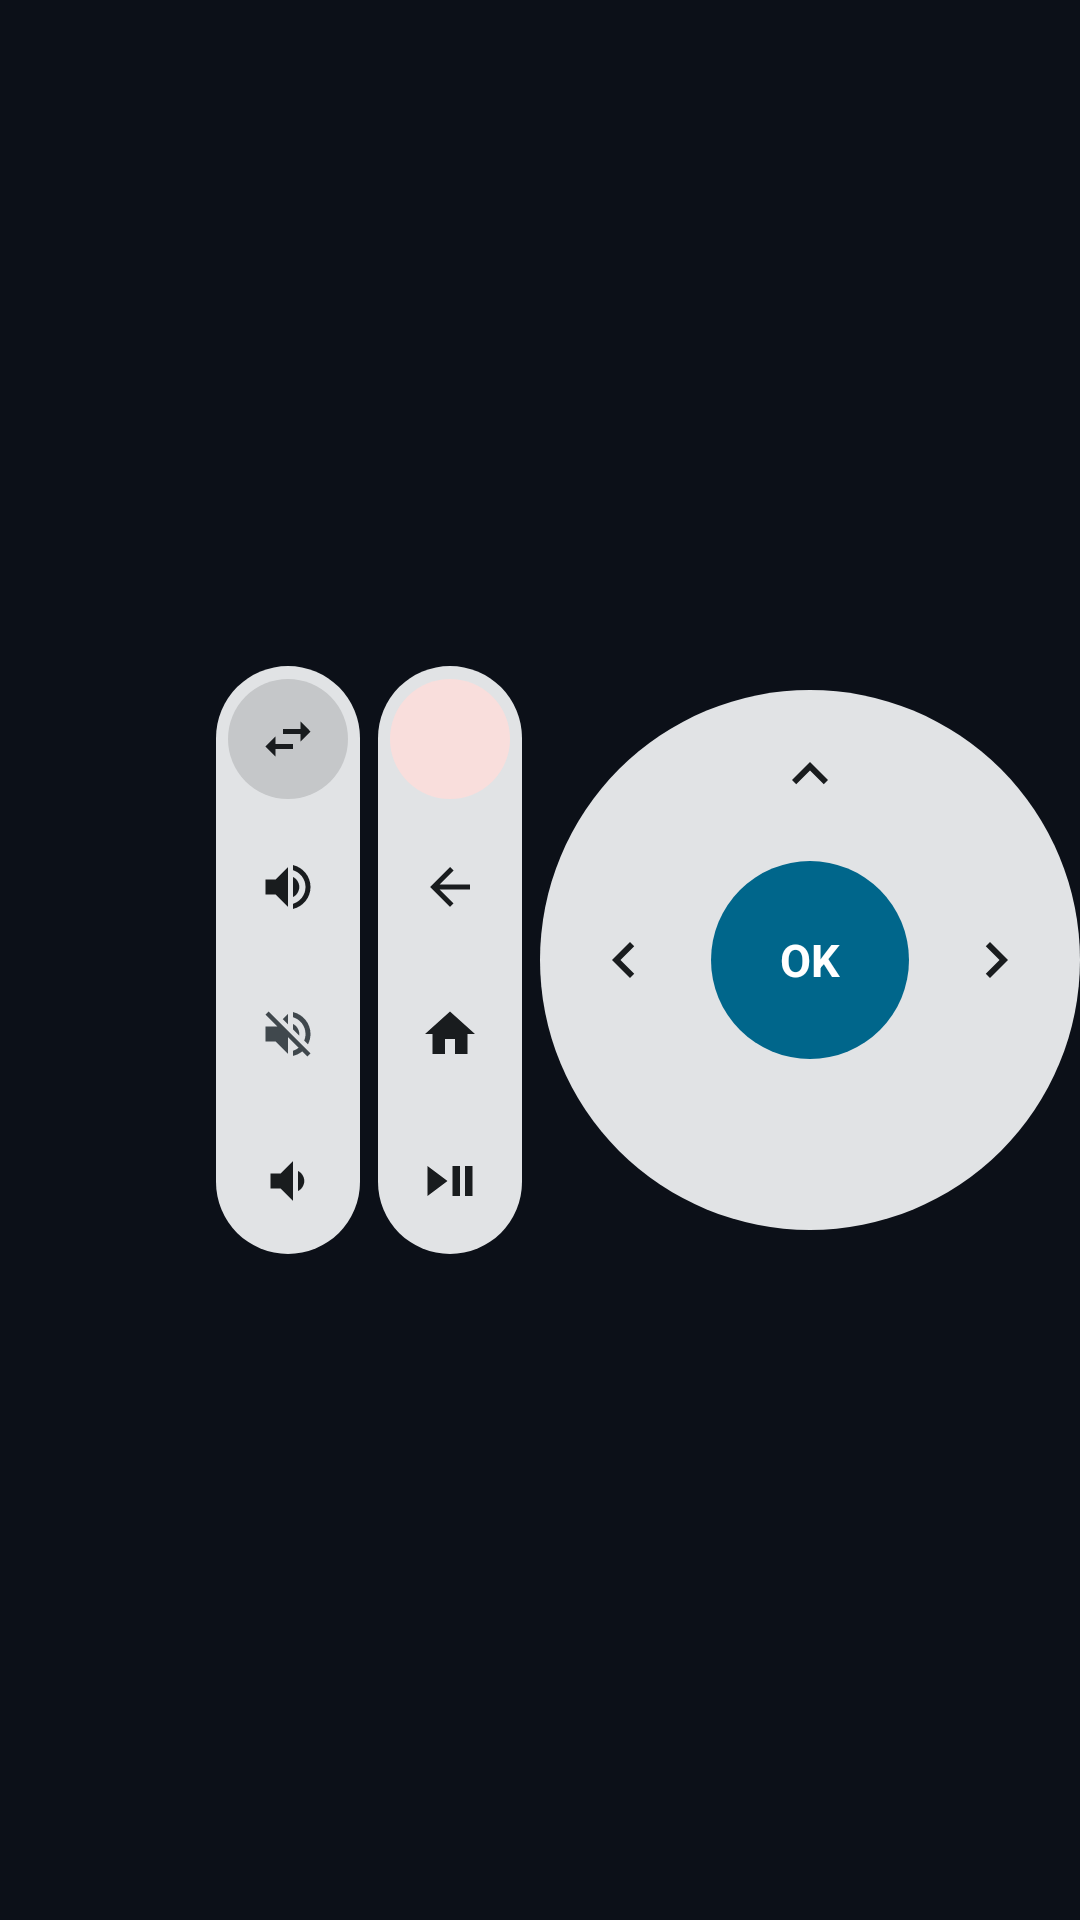

Named icons in this screenshot (1080x1920) and their centers, (x,y):
Back: (450,887)
Home: (450,1032)
Mute: (288,1034)
Play or Pause: (450,1180)
Switch device: (288,739)
Volume Down: (288,1180)
Volume Up: (288,887)
